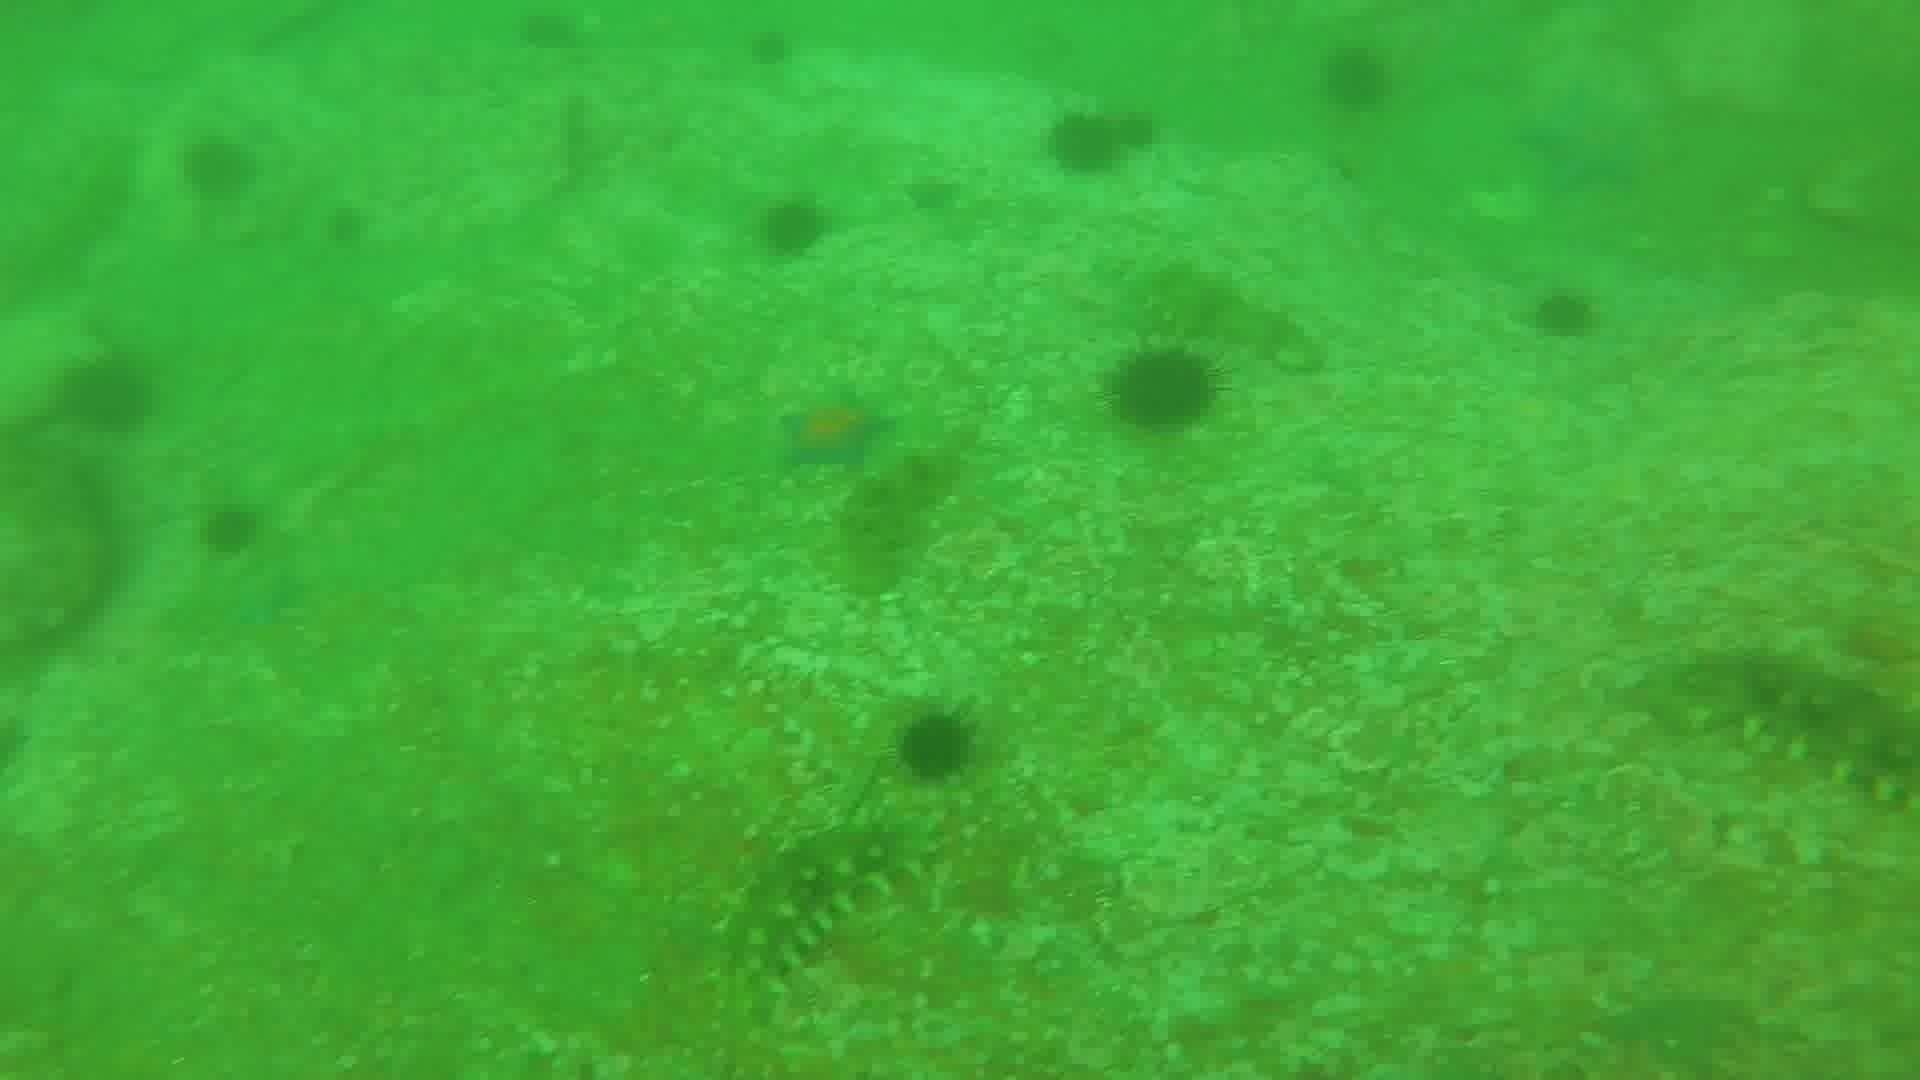echinus: (1102, 342, 1225, 436), (54, 349, 160, 439), (891, 705, 978, 787), (1040, 104, 1131, 181), (175, 131, 258, 206), (1316, 41, 1396, 116), (752, 193, 833, 262), (1527, 284, 1602, 344), (195, 498, 265, 562), (513, 7, 585, 55), (899, 167, 965, 220), (1102, 104, 1164, 160), (319, 200, 373, 252), (742, 24, 799, 71)
holothurian: (713, 808, 942, 996), (1672, 640, 1919, 806), (1124, 255, 1324, 368), (829, 439, 963, 603), (748, 667, 858, 795)
starfish: (1519, 79, 1660, 198), (774, 382, 895, 477), (204, 560, 307, 636)
